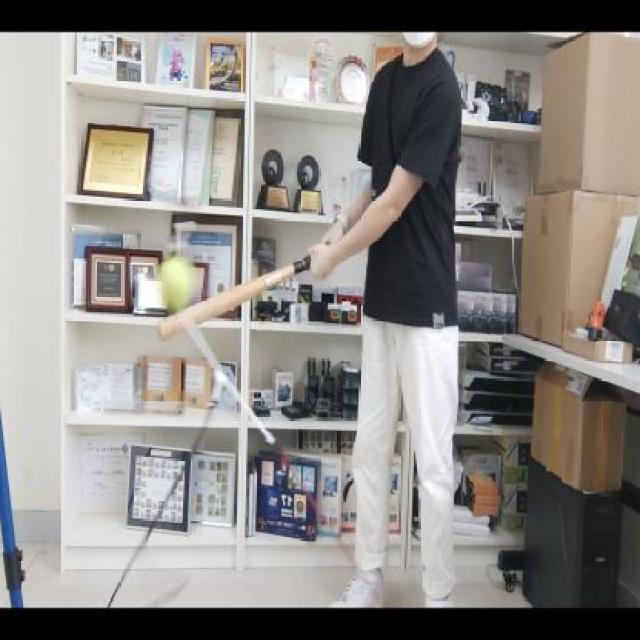baseball: (156, 251, 196, 311)
